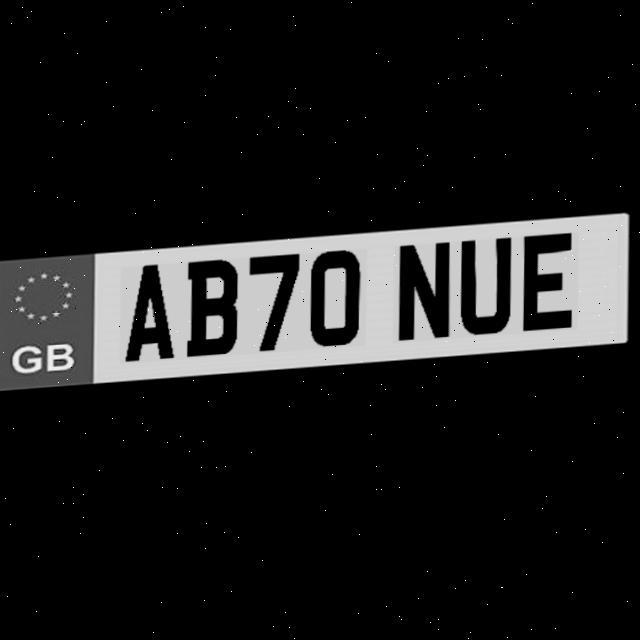license-plates: (0, 210, 631, 390)
